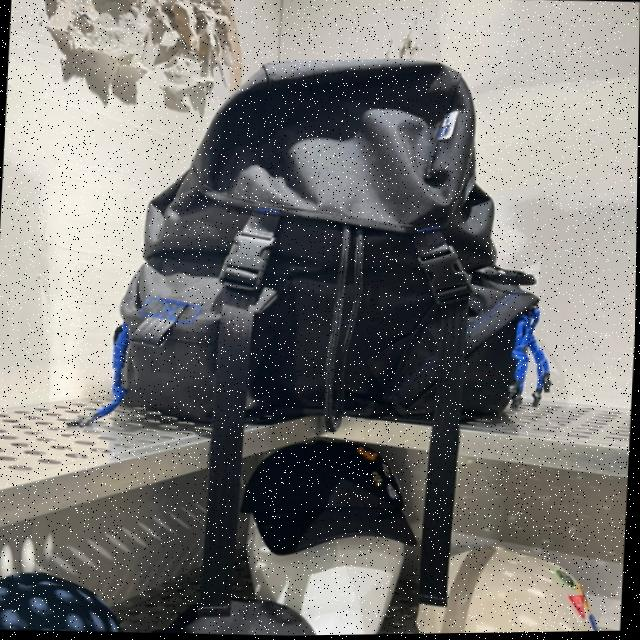backpack: (87, 30, 574, 471)
